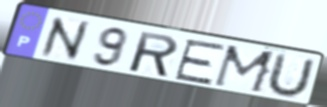9: (91, 26, 131, 69)
E: (171, 38, 229, 87)
M: (210, 43, 280, 96)
N: (38, 15, 92, 63)
R: (128, 30, 180, 79)
U: (263, 51, 318, 100)
